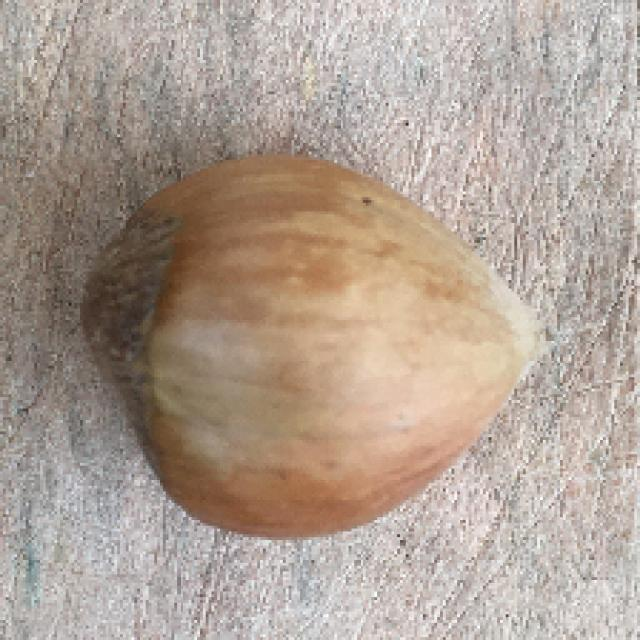damagedHazelnut: (70, 146, 554, 544)
